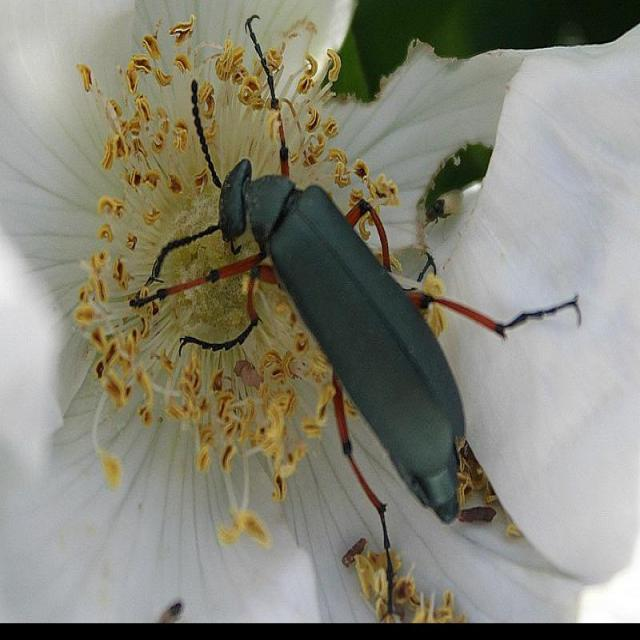BlisterBeetle-Adult-: (151, 18, 588, 521)
